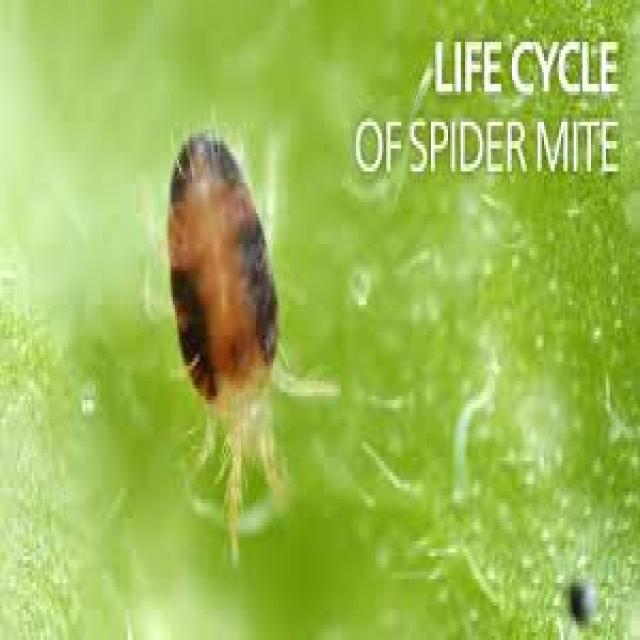Mites: (157, 103, 290, 582)
